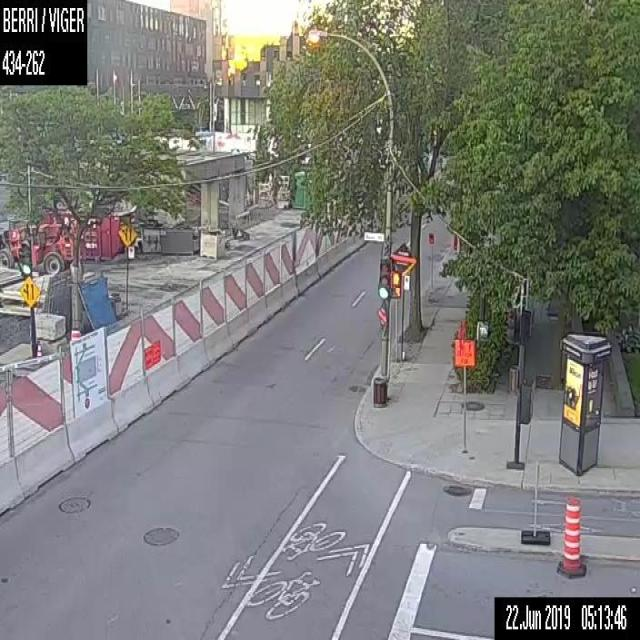construction: (0, 107, 398, 521), (556, 493, 584, 578), (454, 338, 475, 449), (34, 341, 42, 355), (71, 328, 81, 339)
